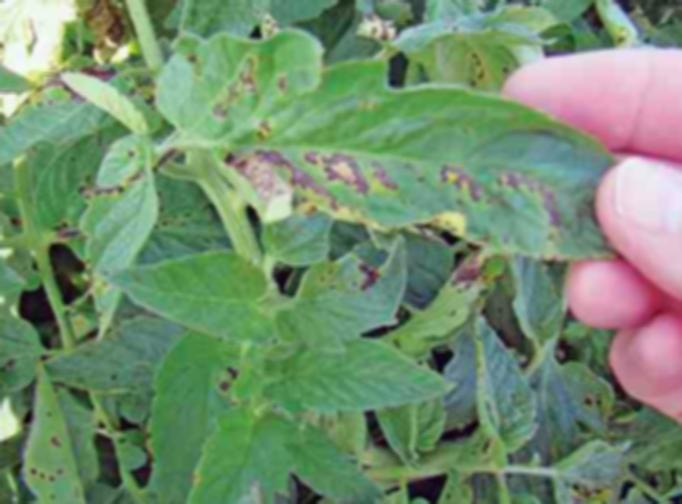Tomato Early blight leaf: (134, 24, 606, 257)
Tomato leaf: (91, 254, 282, 344), (286, 348, 450, 410), (276, 424, 379, 504)
